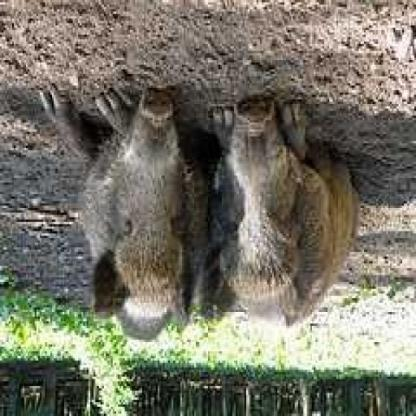boar: (48, 48, 198, 363), (199, 79, 374, 344)
